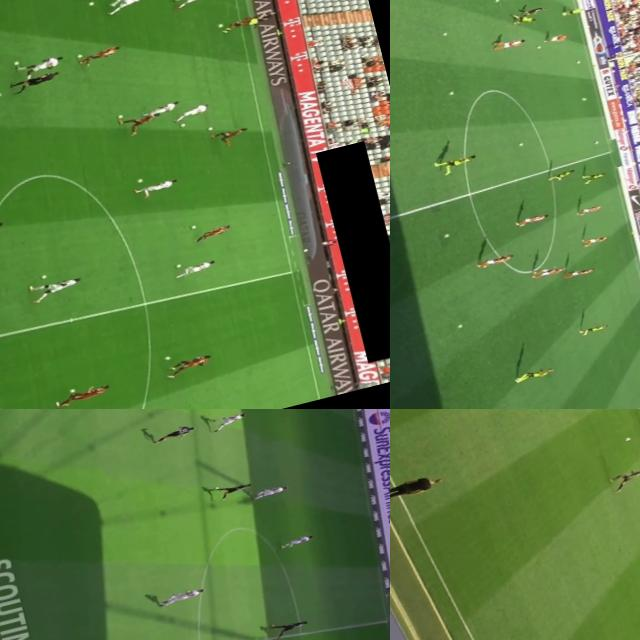ball: (618, 434, 634, 444), (172, 262, 185, 270), (114, 112, 126, 120), (83, 1, 96, 8), (9, 60, 19, 68), (176, 121, 188, 127), (134, 178, 144, 184), (188, 224, 198, 230), (455, 323, 464, 329), (40, 274, 48, 280), (442, 232, 449, 238), (447, 91, 455, 96), (216, 22, 222, 28), (206, 127, 213, 132), (164, 355, 172, 359), (534, 45, 542, 49), (518, 141, 524, 146), (580, 97, 586, 101), (492, 0, 499, 3), (441, 32, 446, 36), (576, 60, 581, 64), (593, 140, 597, 144)
player: (49, 380, 116, 409), (27, 274, 83, 304), (15, 55, 67, 81), (116, 110, 160, 138), (154, 586, 207, 608), (263, 616, 312, 639), (132, 175, 180, 198), (208, 478, 256, 501), (166, 355, 212, 378), (431, 152, 477, 175), (208, 410, 252, 432), (150, 426, 196, 446), (174, 259, 216, 280), (608, 465, 640, 492), (210, 125, 250, 146), (193, 222, 233, 243), (171, 103, 211, 123), (216, 16, 258, 35), (512, 366, 556, 384), (252, 483, 290, 502), (476, 252, 514, 270), (82, 48, 118, 66), (146, 100, 180, 118), (514, 213, 549, 229), (279, 534, 314, 550), (103, 0, 145, 13), (530, 266, 564, 280), (562, 266, 595, 280), (578, 322, 610, 336), (547, 168, 576, 183), (492, 38, 522, 52), (580, 234, 608, 248), (172, 0, 210, 10), (511, 12, 535, 26), (575, 204, 600, 217), (582, 172, 606, 184), (542, 34, 566, 45), (562, 7, 582, 17)
